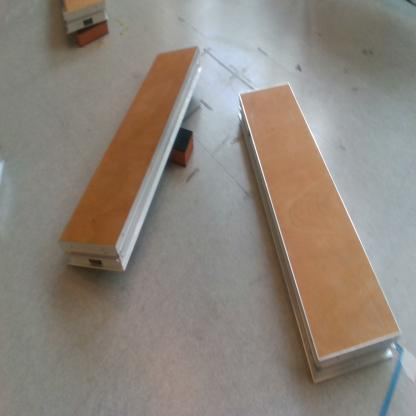Stairs: (239, 86, 402, 386), (59, 46, 204, 273), (62, 1, 108, 32)
